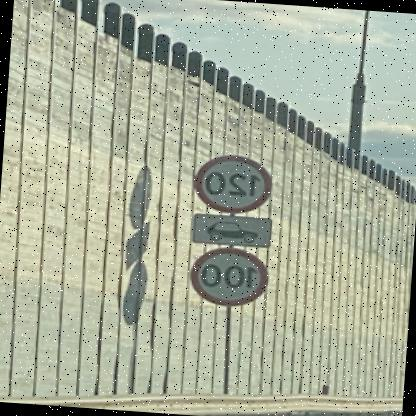speedlimit: (189, 243, 274, 308), (195, 152, 280, 216)
